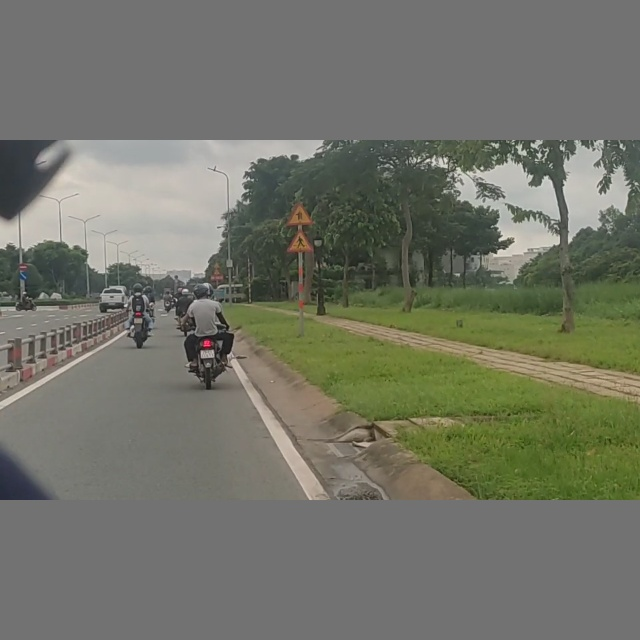P.102: (18, 263, 28, 271)
R.302a: (19, 271, 28, 280)
W.207: (287, 203, 313, 225)
W.224: (287, 228, 314, 253)
